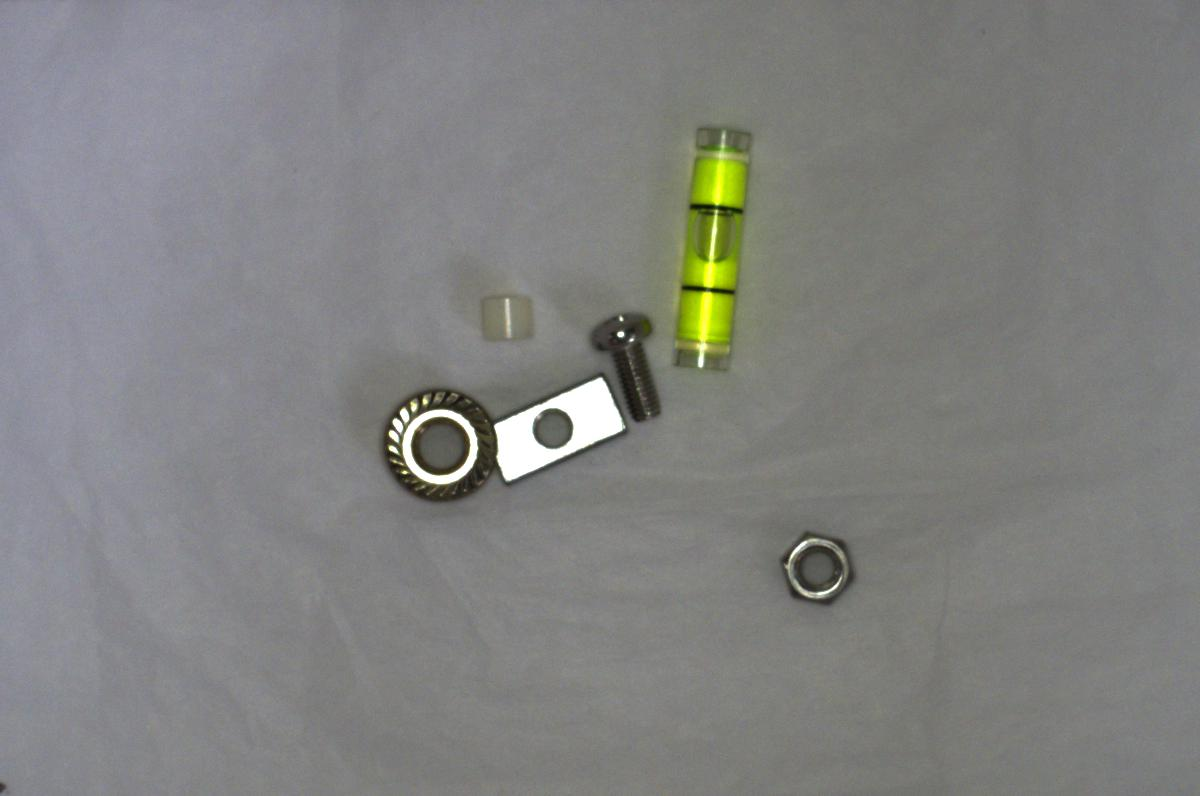Flange nut: (353, 383, 494, 503)
Hexagon nut: (772, 519, 867, 607)
Horizontal bubble: (674, 122, 751, 380)
Plastic cushion pillar: (472, 282, 537, 350)
Rectangular nut: (493, 376, 625, 485)
Round head screw: (587, 302, 667, 427)
